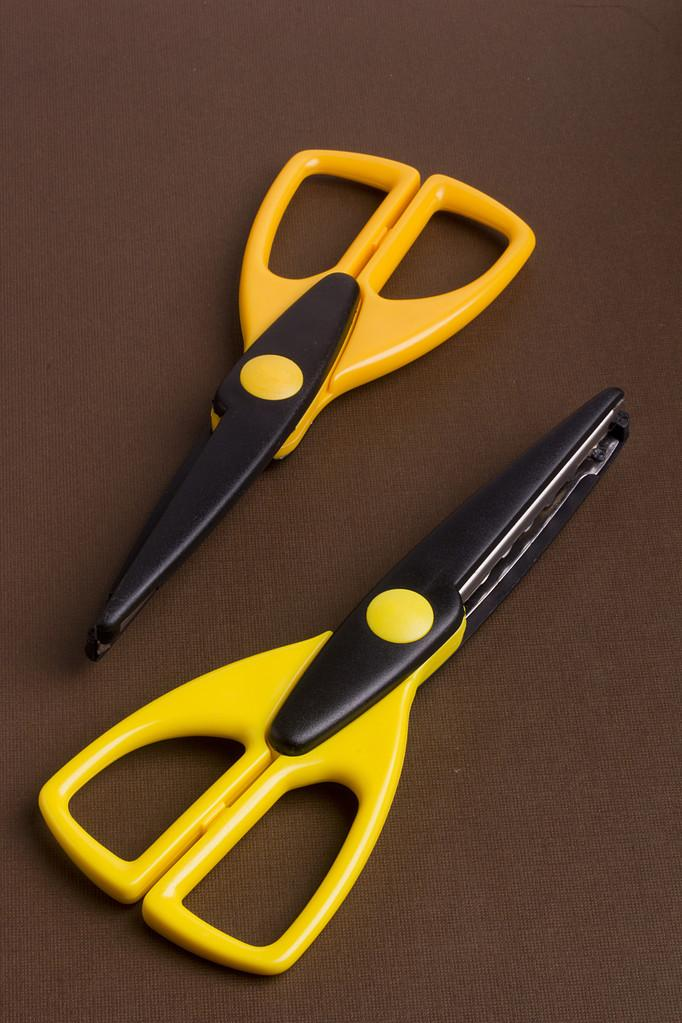scissor: (159, 77, 645, 923)
